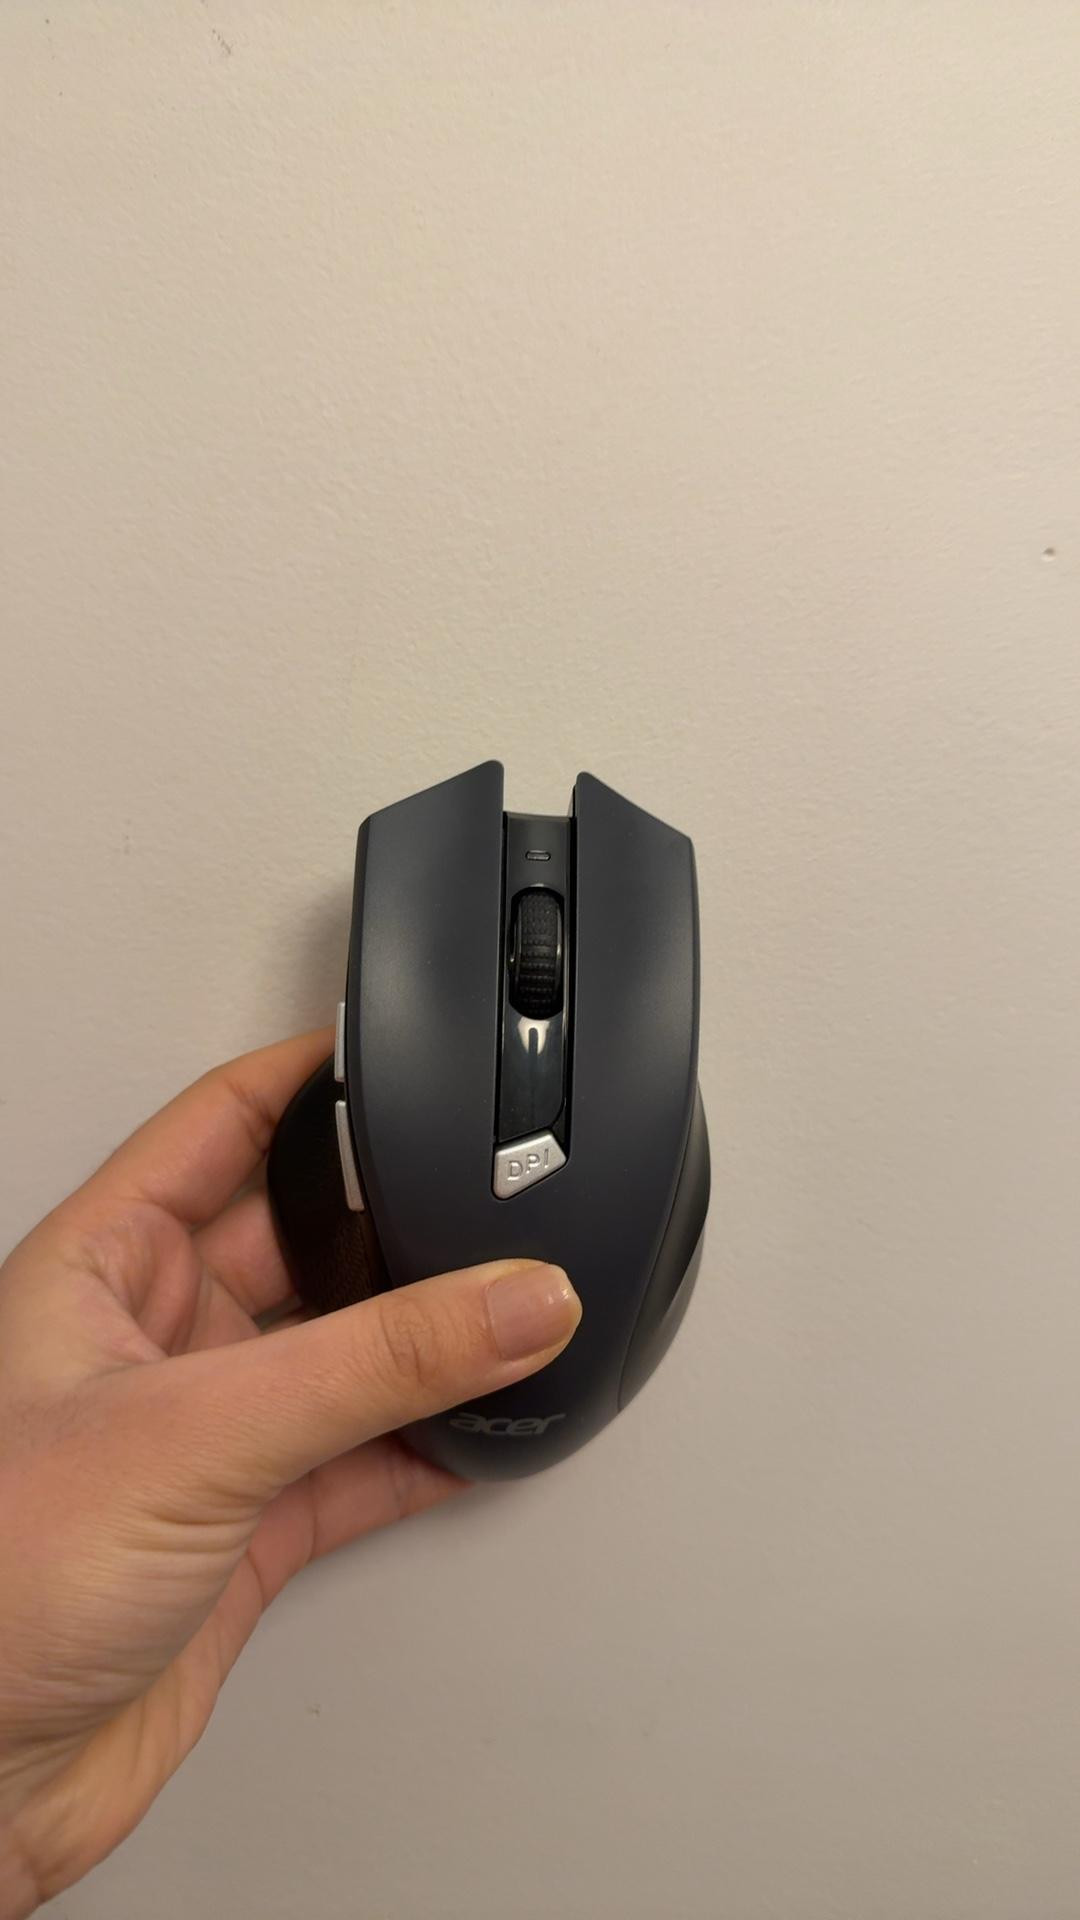Mouse: (318, 760, 728, 1510)
